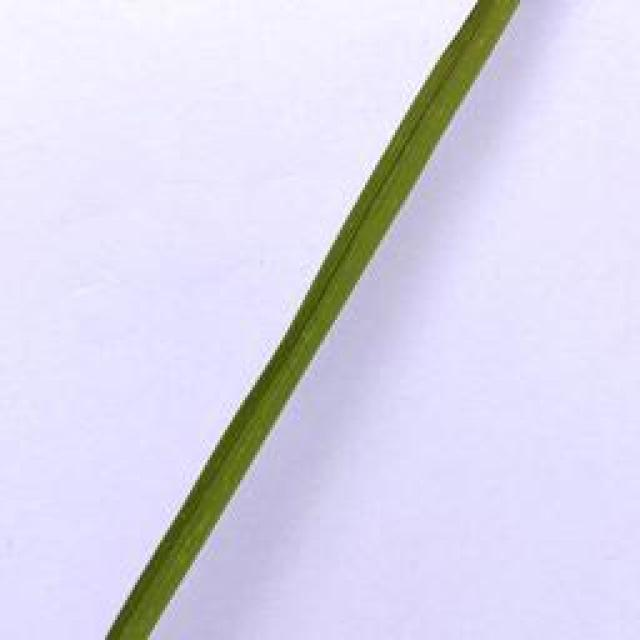Healthy-Plant: (72, 0, 537, 640)
